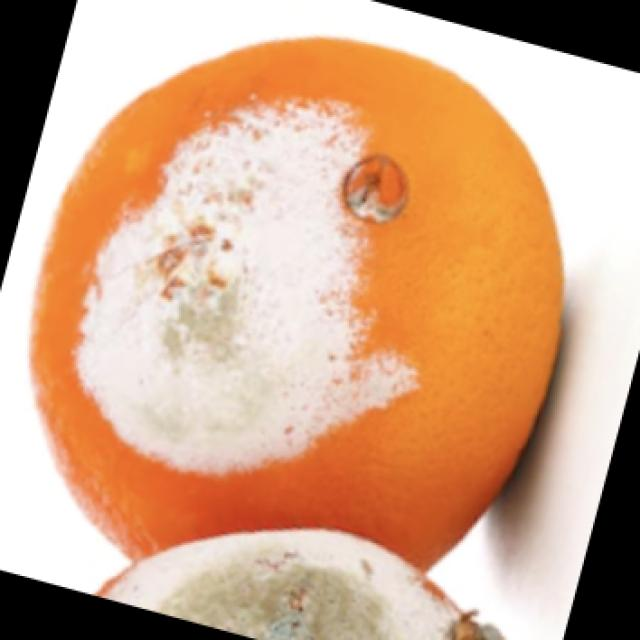sangat_busuk: (99, 526, 508, 638)
sedikit_busuk: (28, 39, 563, 573)
